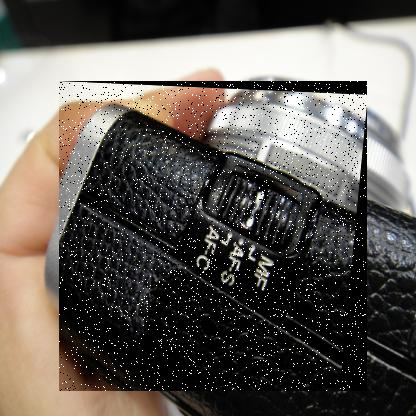Camera: (60, 82, 369, 393)
